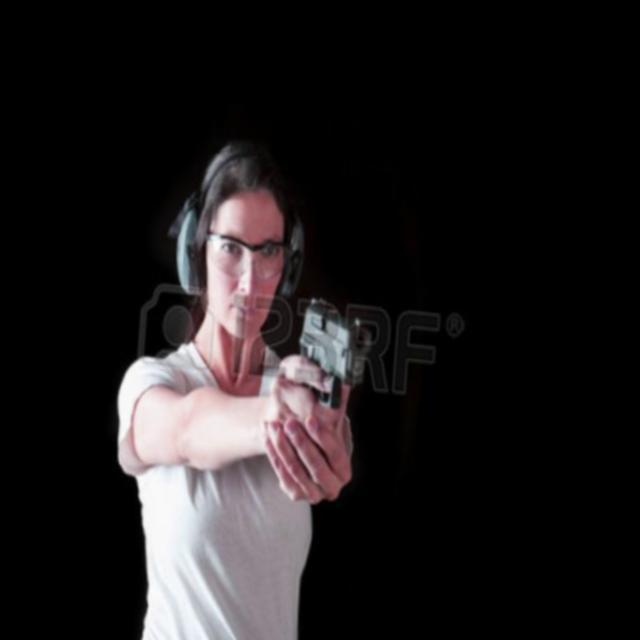weapon: (296, 288, 375, 406)
